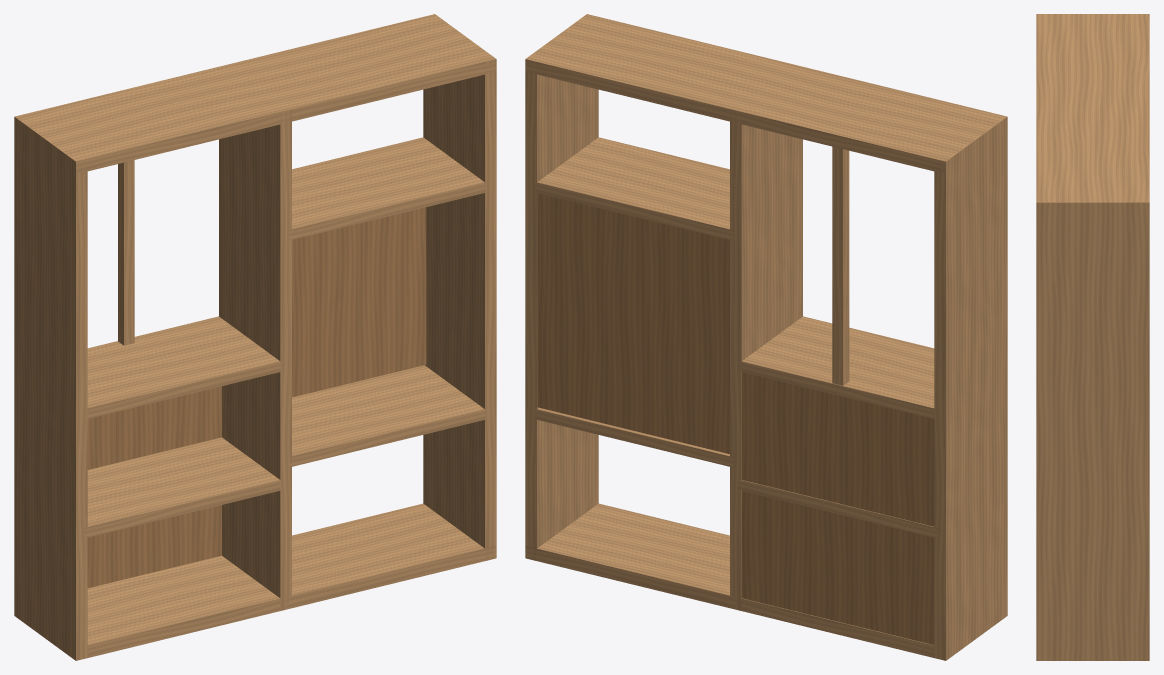
The model's file is measured.glb.
3 views of the same model, side by side, from view 1: azimuth 30°, elevation 25°; view 2: azimuth 150°, elevation 25°; view 3: azimuth 270°, elevation 25° (orthographic). The views are drawn at different scales.
Visible parts, largest first — view 1: Oak upright, Cap_1, Oak upright_2, Oak upright_1, Cap, Inset back_1, Inset back, Offset shelf_3, Offset shelf_1, Offset shelf_2, Offset shelf, Open bay mullion; view 2: Inset back, Inset back_1, Oak upright, Cap_1, Oak upright_1, Oak upright_2, Cap, Offset shelf_3, Offset shelf_1, Open bay mullion, Offset shelf_2, Offset shelf; view 3: Oak upright_2, Cap_1.
Boxes of the visible parts, x1,y1,x2,y2 form: Oak upright: (14, 117, 87, 660); Cap_1: (15, 14, 496, 173); Oak upright_2: (423, 14, 496, 560); Oak upright_1: (219, 109, 291, 610); Cap: (87, 503, 496, 657); Inset back_1: (292, 207, 426, 397); Inset back: (87, 386, 221, 588); Offset shelf_3: (288, 137, 484, 240); Offset shelf_1: (84, 316, 280, 419); Offset shelf_2: (288, 365, 487, 467); Offset shelf: (84, 437, 280, 538); Open bay mullion: (118, 160, 134, 345); Inset back: (742, 372, 934, 644); Inset back_1: (537, 193, 729, 454); Oak upright: (934, 117, 1007, 660); Cap_1: (525, 14, 1006, 173); Oak upright_1: (730, 110, 802, 610); Oak upright_2: (525, 14, 598, 560); Cap: (525, 503, 934, 657); Offset shelf_3: (534, 137, 733, 240); Offset shelf_1: (738, 316, 937, 419); Open bay mullion: (832, 146, 849, 385); Offset shelf_2: (534, 407, 733, 467); Offset shelf: (737, 479, 937, 538); Oak upright_2: (1036, 197, 1149, 660); Cap_1: (1036, 14, 1149, 202).
Size of the model in its own units: 1.26 by 1.43 by 0.32.
2 materials, 2 textured.
